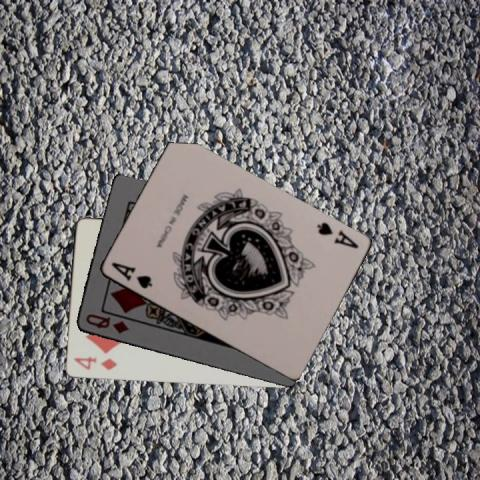4d: (70, 354, 118, 372)
As: (313, 219, 359, 250), (108, 259, 153, 290)
Qd: (82, 311, 130, 336)
